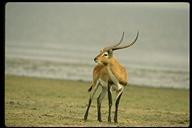antelope: (83, 30, 140, 123)
grass: (7, 82, 79, 125), (127, 89, 187, 124)
water: (7, 5, 90, 74), (141, 4, 188, 84)
